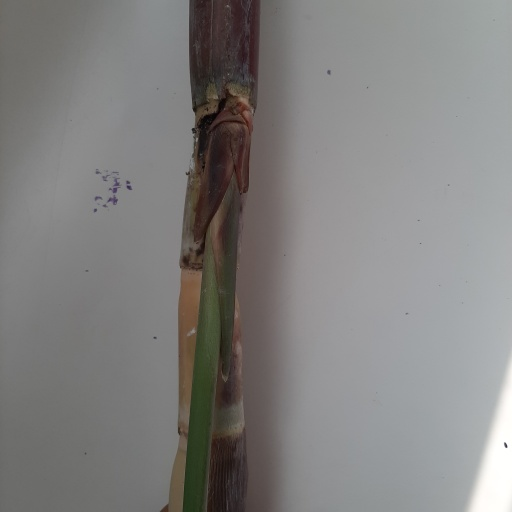Sprouted_Bud: (218, 96, 253, 225)
